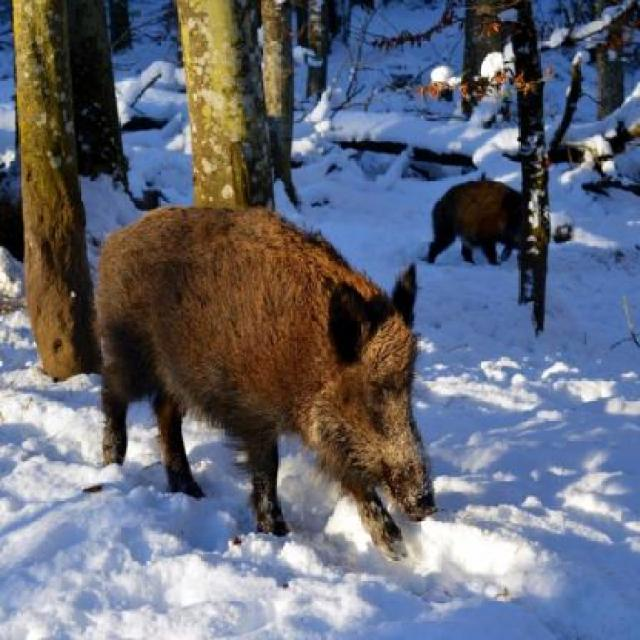wildboar: (83, 195, 440, 563), (421, 174, 557, 268)
